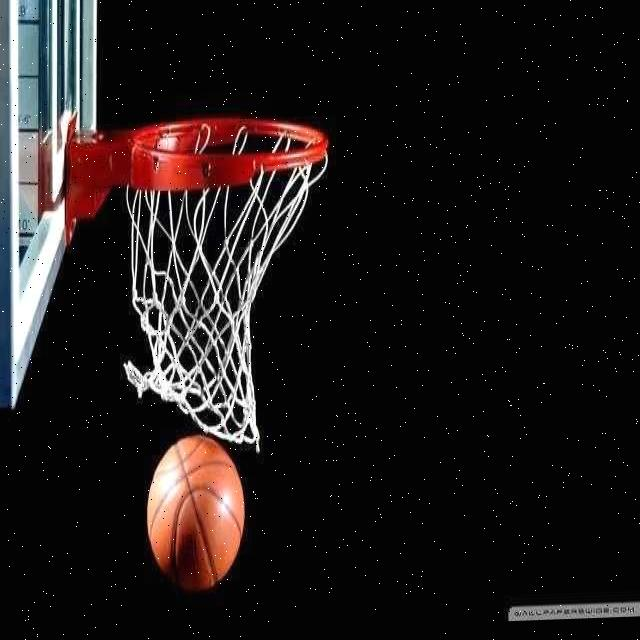basketball: (143, 430, 247, 599)
hoop: (115, 110, 336, 467)
